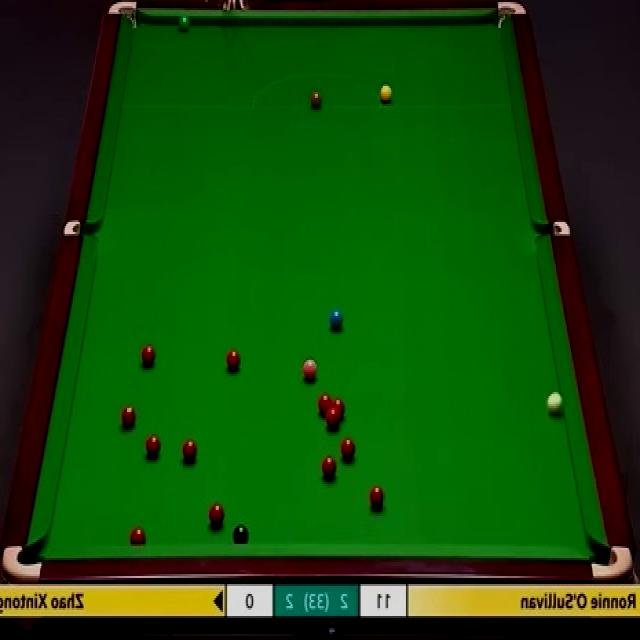pocket: (591, 545, 633, 583), (3, 544, 43, 582), (108, 0, 138, 31), (497, 0, 526, 32), (533, 220, 572, 237), (65, 220, 99, 237)
